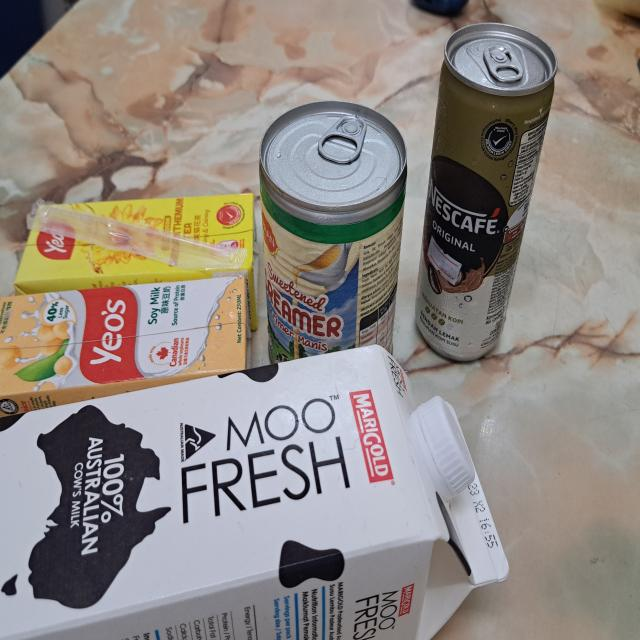can: (415, 23, 559, 364), (258, 100, 408, 367)
drink carton: (0, 344, 511, 640), (0, 274, 256, 420), (16, 190, 260, 294)
plastic bottle cap: (418, 394, 476, 498)
pop tab: (318, 115, 368, 166), (483, 44, 524, 84)
